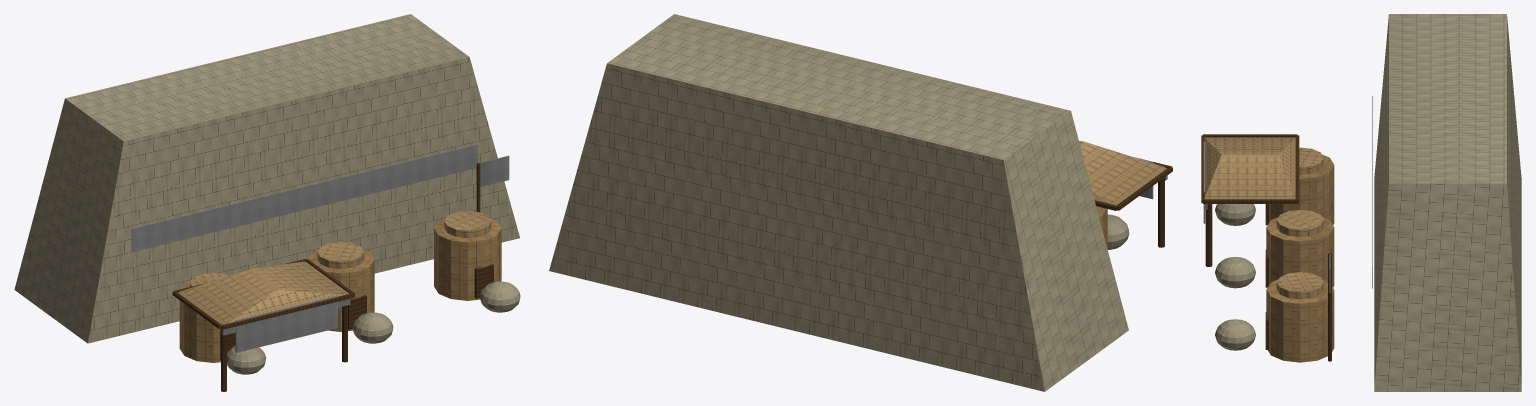
Rendered from copper_mine-israelite-c5a7dfca.glb.
3 views of the same model, side by side, from view 1: azimuth 30°, elevation 25°; view 2: azimuth 150°, elevation 25°; view 3: azimuth 270°, elevation 25° (orthographic). The views are drawn at different scales.
Visible parts, largest first — view 1: LOD0; view 2: LOD0; view 3: LOD0.
Part boxes in pixels (left/top/right/bottom): LOD0: left=14, top=14, right=520, bottom=391; LOD0: left=549, top=14, right=1172, bottom=391; LOD0: left=1201, top=14, right=1521, bottom=391.
Size of what is drawn, in the model's own units: 1.7 by 0.7 by 1.09.
Materials: 2 (2 with a texture image).
